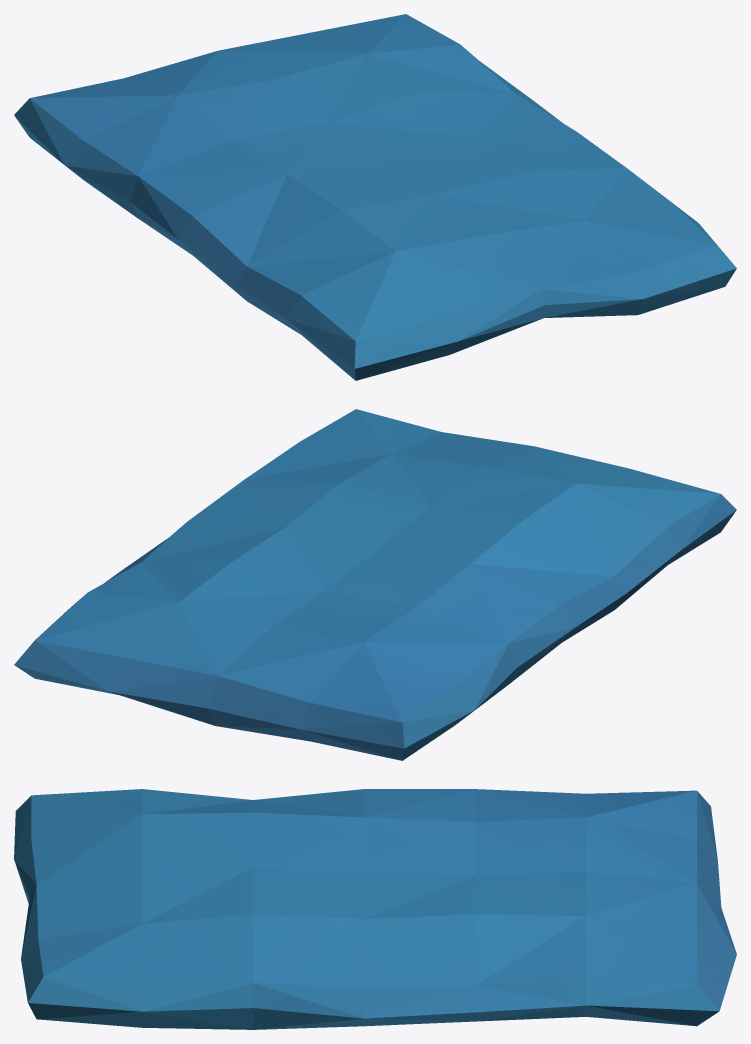
File: Pillows.fbx
3 renders of one model, top to bottom at view 1: azimuth 30°, elevation 25°; view 2: azimuth 150°, elevation 25°; view 3: azimuth 270°, elevation 25°, orthographic. The views are drawn at different scales.
Visible parts, largest first — view 1: Pillow 1; view 2: Pillow 1; view 3: Pillow 1.
Part boxes in pixels (<box>): Pillow 1: <box>14,14,736,380</box>; Pillow 1: <box>14,409,736,760</box>; Pillow 1: <box>14,789,736,1029</box>.
Bounding box in the file's own units: 112 × 24.3 × 163.
Materials: 1 (1 with a texture image).
